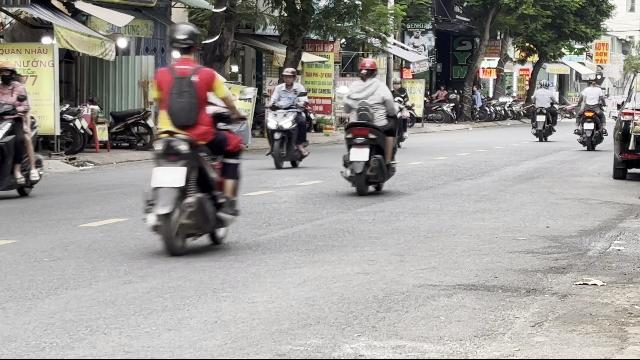helmet: (167, 24, 203, 61), (357, 57, 378, 78), (0, 62, 18, 84), (281, 67, 297, 85), (586, 76, 596, 86)
licenseplate: (151, 166, 185, 186), (349, 148, 369, 160), (583, 122, 593, 128)
motorcyclist: (144, 22, 248, 256), (338, 57, 402, 195), (0, 59, 44, 203), (260, 66, 312, 170), (572, 76, 608, 150)
